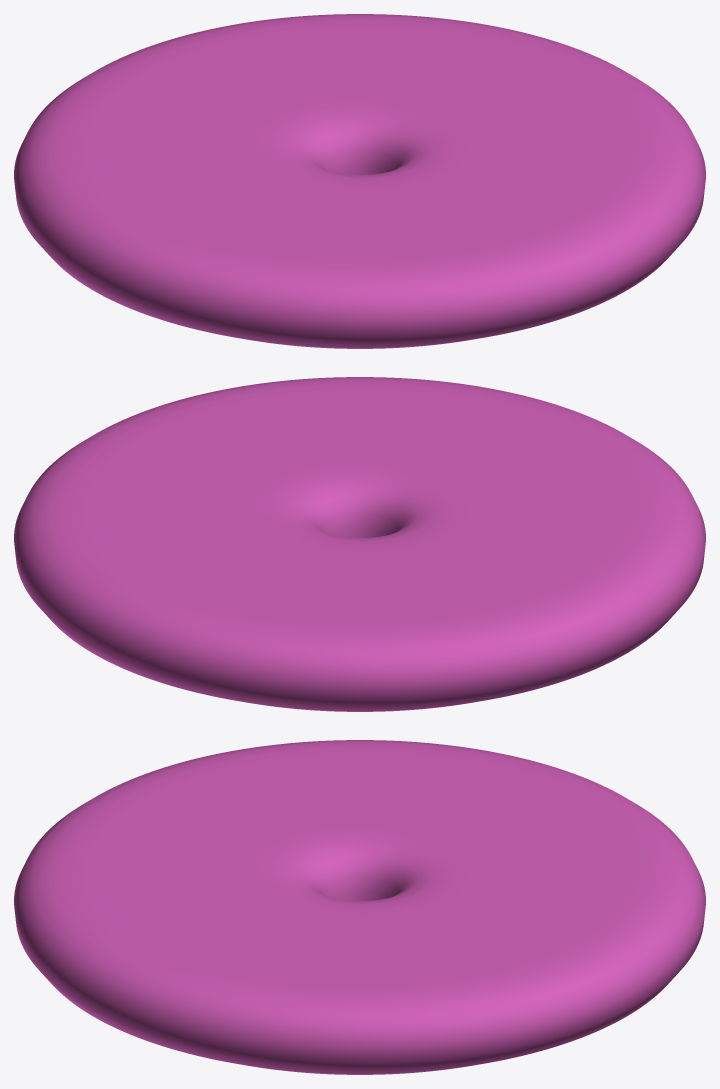
File: Record Phase 1.fbx
3 views of the same model, one above another, from view 1: azimuth 30°, elevation 25°; view 2: azimuth 150°, elevation 25°; view 3: azimuth 270°, elevation 25° (orthographic).
Visible parts, largest first — view 1: Record Phase 1; view 2: Record Phase 1; view 3: Record Phase 1.
Boxes of the visible parts, x1,y1,x2,y2 form: Record Phase 1: (14, 14, 705, 348); Record Phase 1: (14, 377, 705, 711); Record Phase 1: (14, 740, 705, 1074).
Bounding box in the file's own units: 58.6 × 8.61 × 58.6.
